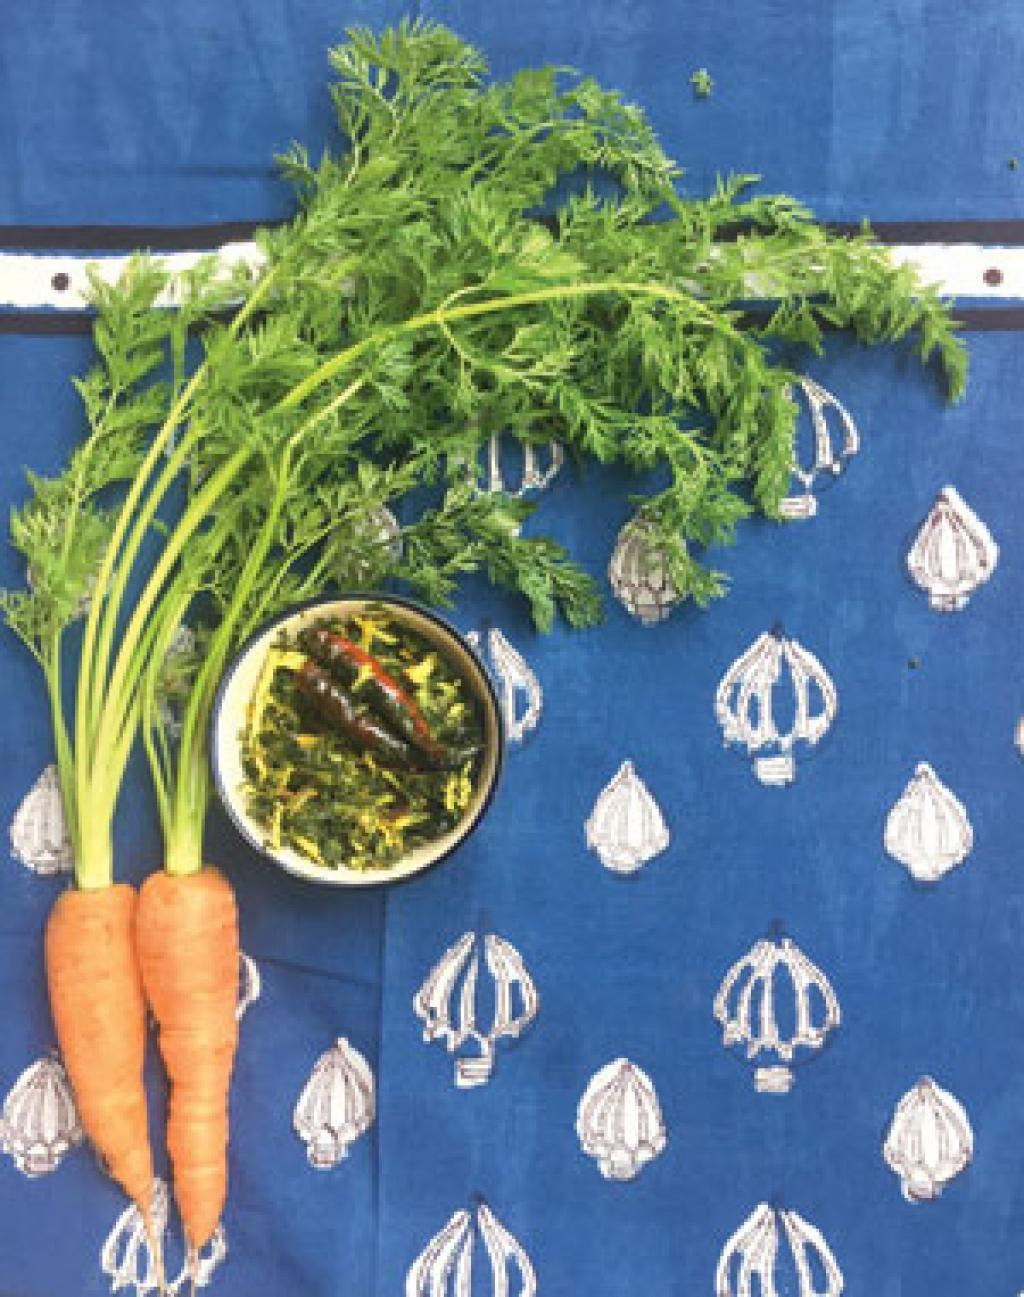carrot: (14, 310, 269, 1294), (29, 842, 262, 1297), (140, 866, 257, 1296), (47, 870, 144, 1202)
